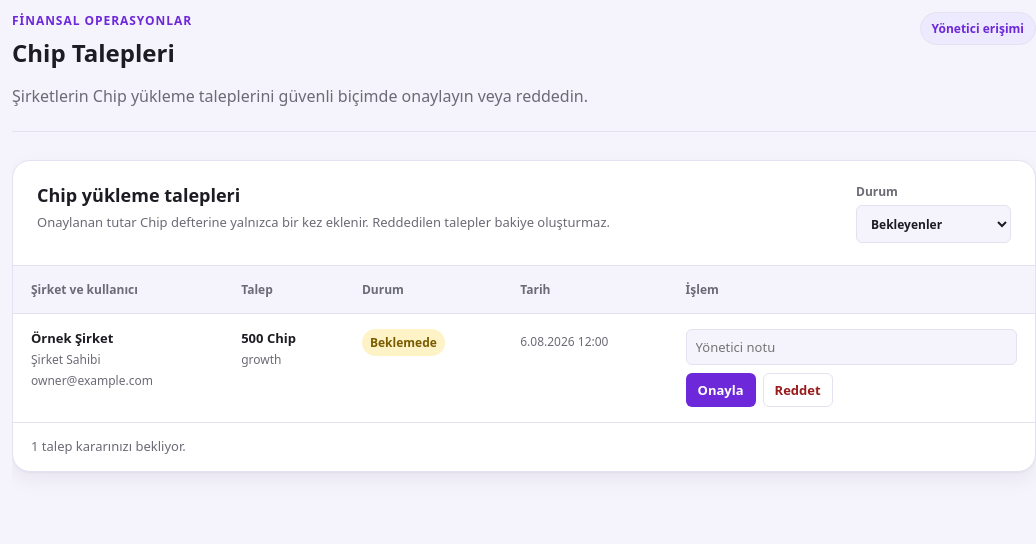
AdminDashboard › aciklama olmadan reddetmeye izin vermez
Check: the text "Örnek Şirket" is shown, box [31, 329, 113, 347]
Step 1. Click the button "Reddet" → (798, 390), box [763, 373, 833, 407]
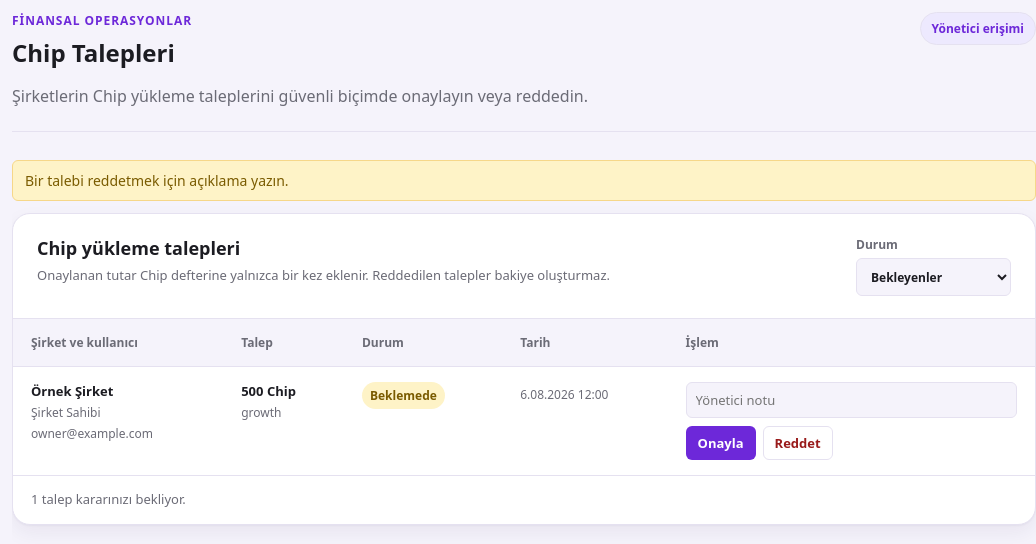
Check: the message shows "açıklama yazın", box [25, 171, 289, 190]
